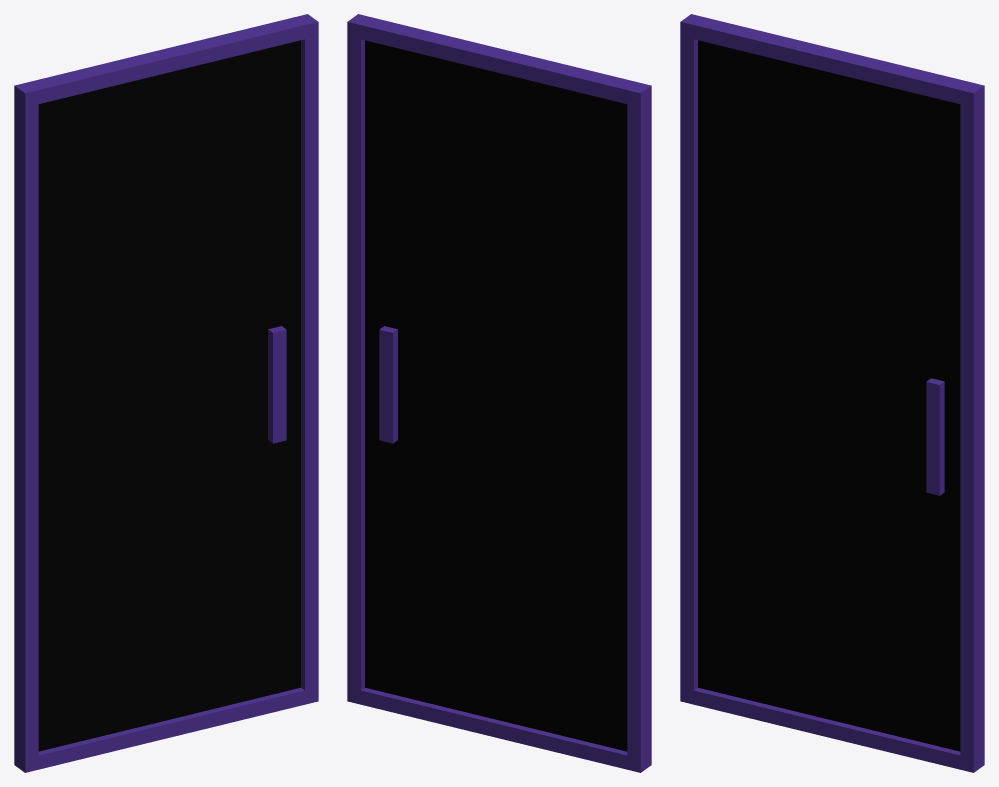
The model's file is door_entrance2.fbx.
3 renders of one model, left to right at view 1: azimuth 30°, elevation 25°; view 2: azimuth 150°, elevation 25°; view 3: azimuth 330°, elevation 25°, orthographic.
Visible parts, largest first — view 1: door_entrance_glass2, door_entrance_frame2; view 2: door_entrance_glass2, door_entrance_frame2; view 3: door_entrance_glass2, door_entrance_frame2.
Boxes of the visible parts, bbox=[...] form: door_entrance_glass2: bbox=[38, 40, 300, 751]; door_entrance_frame2: bbox=[14, 14, 318, 772]; door_entrance_glass2: bbox=[365, 40, 627, 751]; door_entrance_frame2: bbox=[347, 14, 651, 772]; door_entrance_glass2: bbox=[698, 40, 960, 751]; door_entrance_frame2: bbox=[680, 14, 984, 772].
Bounding box in the file's own units: 110 × 243 × 8.33.
